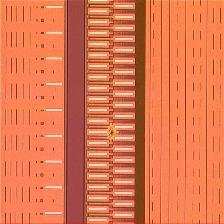PIQ PARTICLE: (103, 124, 123, 144)
